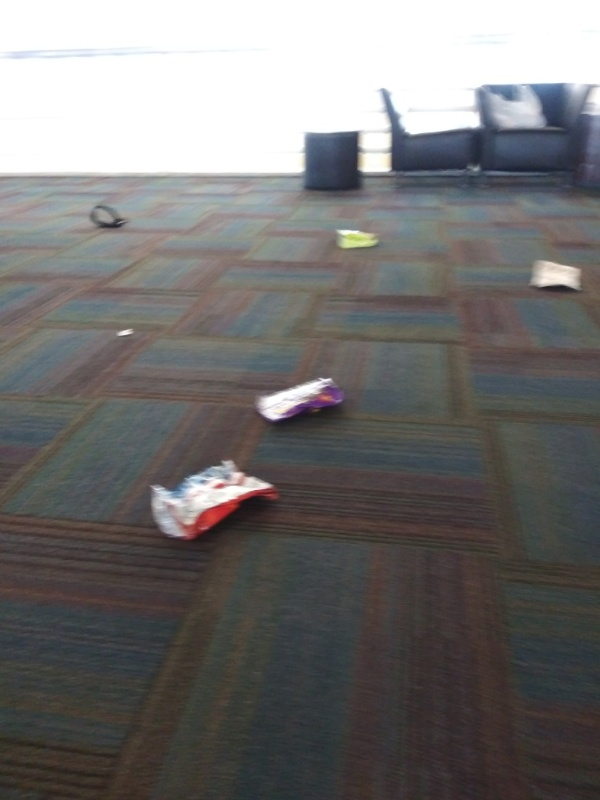bag: (134, 454, 282, 548), (246, 375, 347, 425), (523, 256, 590, 296), (328, 225, 385, 250)
